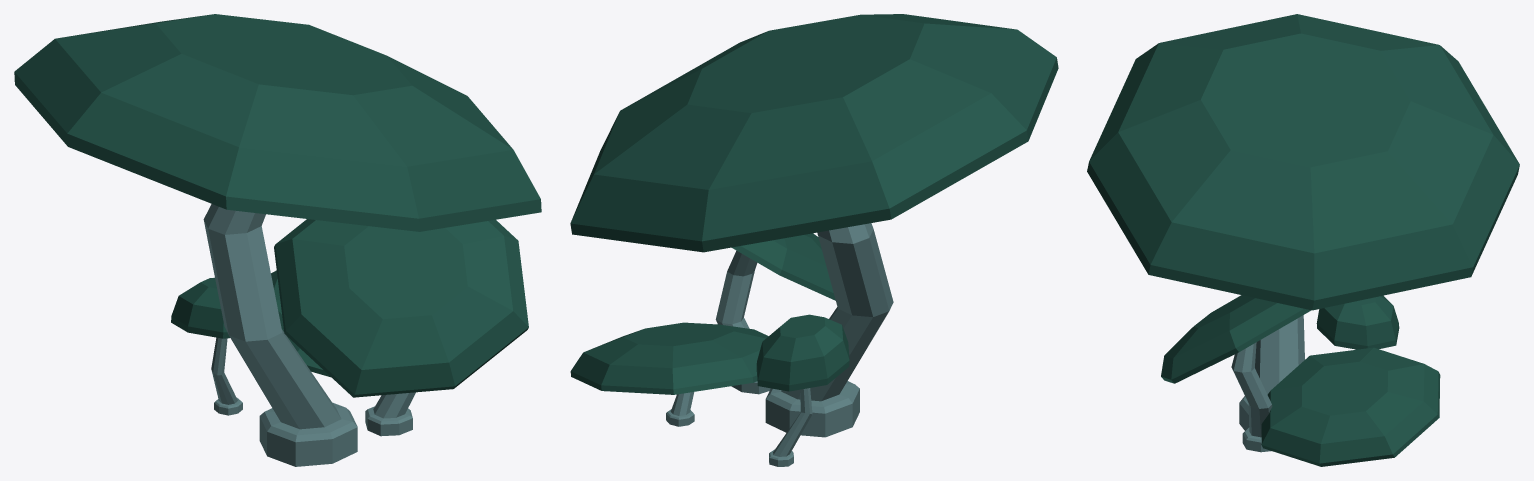
Rendered from shroom1 1.fbx.
3 renders of one model, left to right at view 1: azimuth 30°, elevation 25°; view 2: azimuth 150°, elevation 25°; view 3: azimuth 270°, elevation 25°, orthographic. The views are drawn at different scales.
Parts seen in each view (by area): view 1: Cube.006; view 2: Cube.006; view 3: Cube.006.
Part boxes in pixels (x1,y1,x2,y2): Cube.006: [14, 14, 541, 466]; Cube.006: [570, 14, 1058, 466]; Cube.006: [1087, 14, 1519, 466].
Size of the model in its own units: 2354 by 2134 by 2437.
